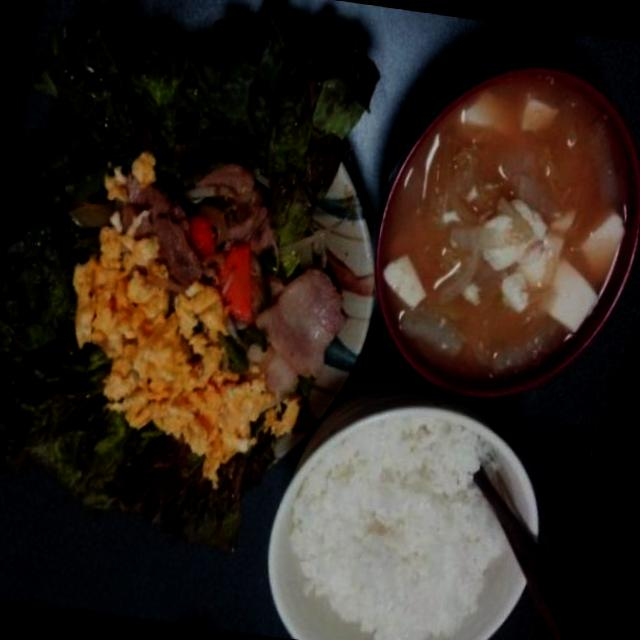Rice: (271, 398, 529, 640)
